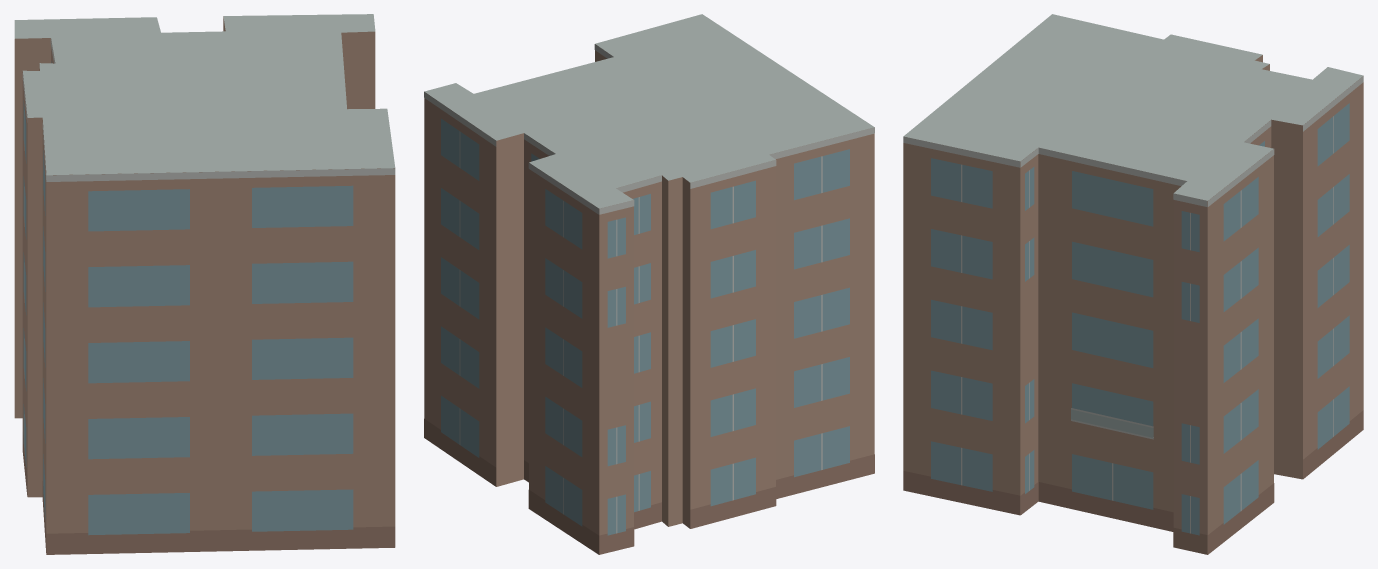
The model's file is survey-upis-32920151.glb.
The picture shows the model from 3 angles, left to right: view 1: azimuth 30°, elevation 25°; view 2: azimuth 150°, elevation 25°; view 3: azimuth 270°, elevation 25°; orthographic projection. The views are drawn at different scales.
Visible parts, largest first — view 1: survey-upis-32920151.tmp; view 2: survey-upis-32920151.tmp; view 3: survey-upis-32920151.tmp.
Part boxes in pixels (x1,y1,x2,y2): survey-upis-32920151.tmp: (14, 14, 395, 554); survey-upis-32920151.tmp: (424, 14, 874, 554); survey-upis-32920151.tmp: (903, 14, 1363, 554).
Size of the model in its own units: 15.29 by 13.5 by 15.92.
